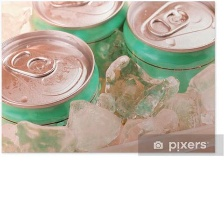can: (0, 27, 100, 133), (121, 0, 214, 97), (29, 0, 128, 35)
